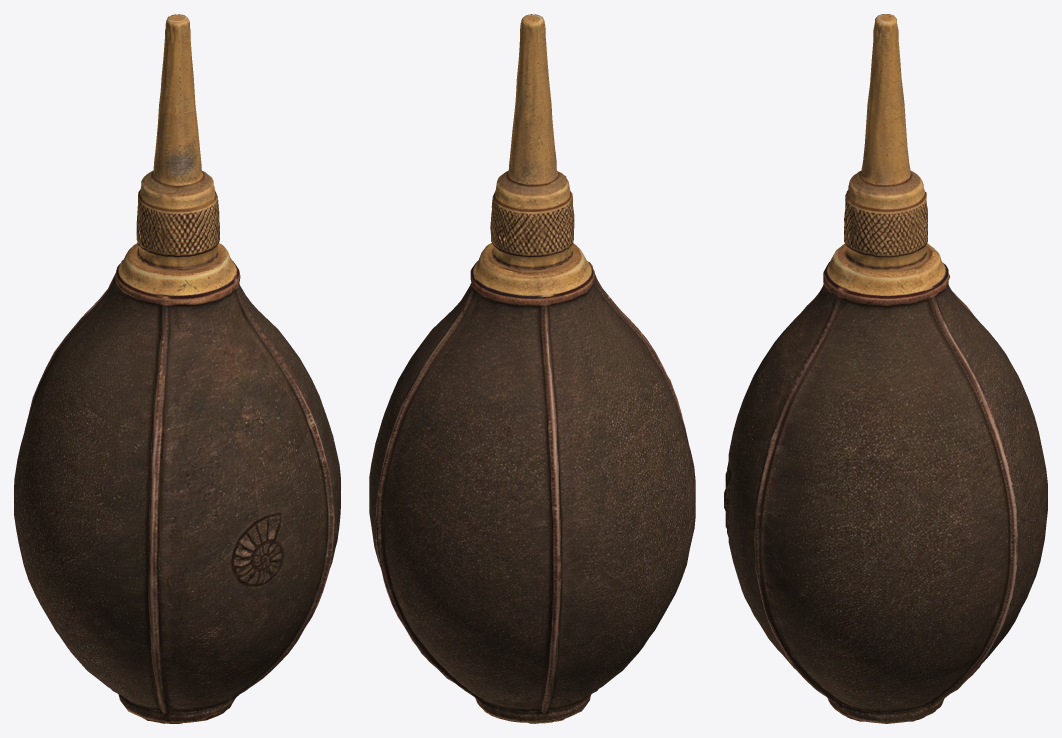
The model's file is blower_low.glb.
3 renders of one model, left to right at view 1: azimuth 30°, elevation 25°; view 2: azimuth 150°, elevation 25°; view 3: azimuth 270°, elevation 25°, orthographic.
Parts seen in each view (by area): view 1: tripo_node_10bf065e-e884-4f94-82fa-b3a265865b29; view 2: tripo_node_10bf065e-e884-4f94-82fa-b3a265865b29; view 3: tripo_node_10bf065e-e884-4f94-82fa-b3a265865b29.
Boxes of the visible parts, x1,y1,x2,y2 form: tripo_node_10bf065e-e884-4f94-82fa-b3a265865b29: [14, 14, 340, 723]; tripo_node_10bf065e-e884-4f94-82fa-b3a265865b29: [369, 14, 695, 723]; tripo_node_10bf065e-e884-4f94-82fa-b3a265865b29: [724, 14, 1047, 723].
Bounding box in the file's own units: 0.423 × 0.9781 × 0.4192.
1 material, 1 textured.
